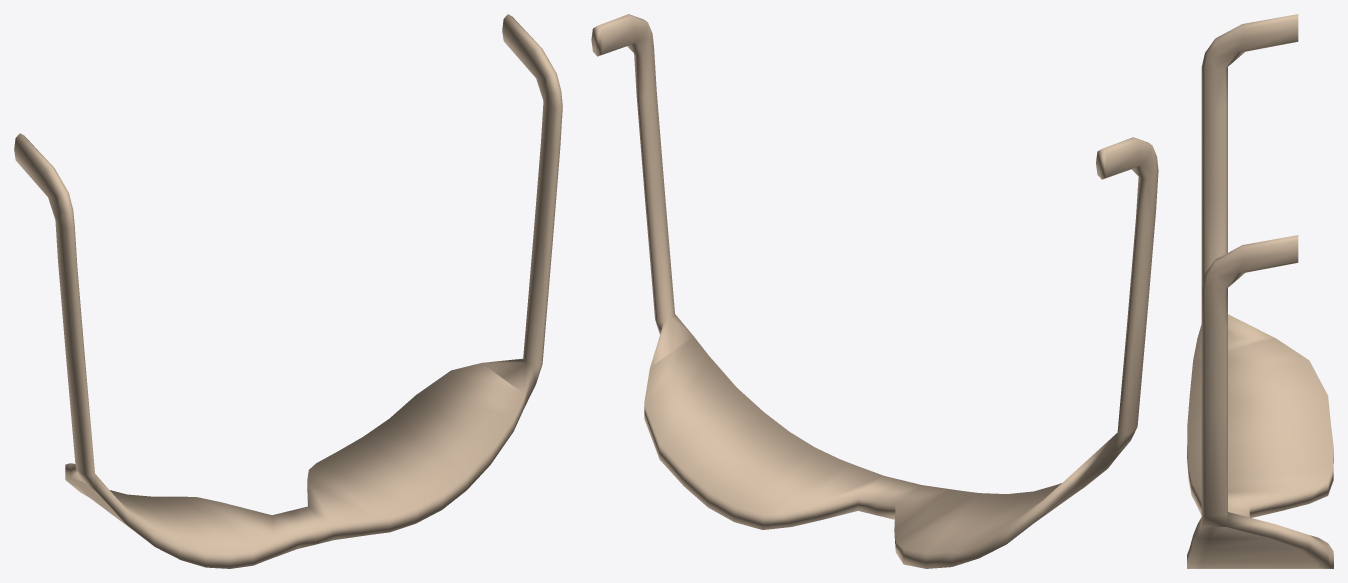
The model's file is LCGlasses.obj.
The picture shows the model from 3 angles, left to right: view 1: azimuth 30°, elevation 25°; view 2: azimuth 150°, elevation 25°; view 3: azimuth 270°, elevation 25°; orthographic projection. The views are drawn at different scales.
Parts seen in each view (by area): view 1: Cube2; view 2: Cube2; view 3: Cube2.
Boxes of the visible parts, x1=… form: Cube2: x1=14, y1=14, x2=562, y2=568; Cube2: x1=591, y1=14, x2=1158, y2=568; Cube2: x1=1187, y1=14, x2=1333, y2=568.
Bounding box in the file's own units: 1736 × 1438 × 476.
